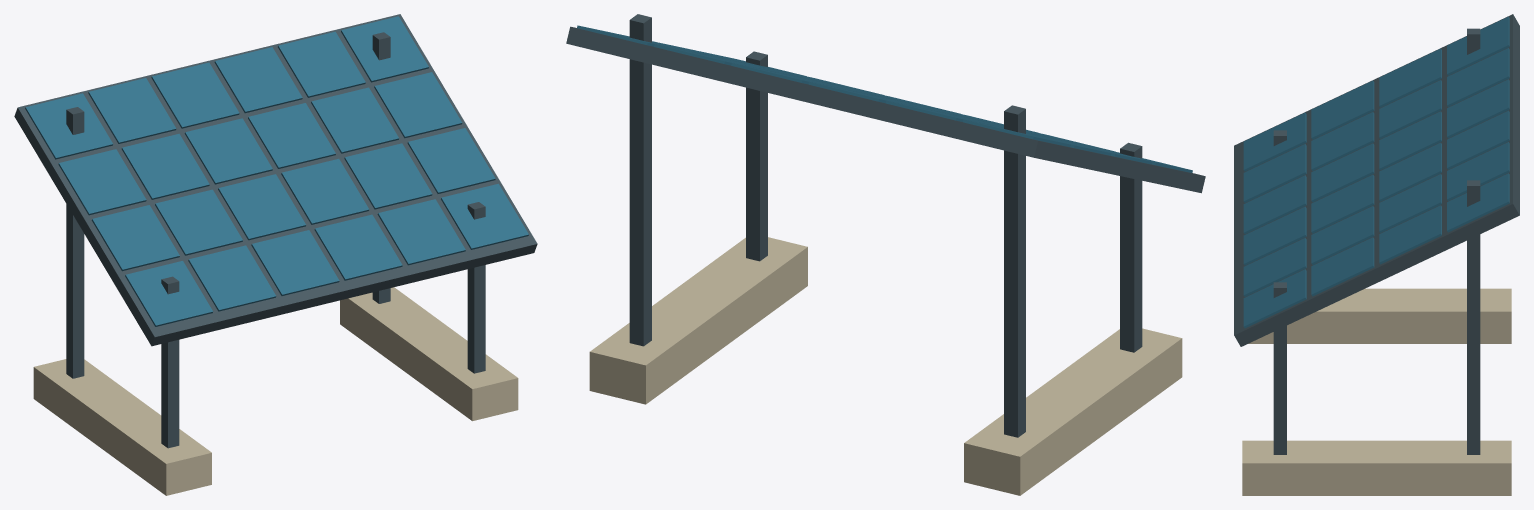
The model's file is solar_array.glb.
3 views of the same model, side by side, from view 1: azimuth 30°, elevation 25°; view 2: azimuth 150°, elevation 25°; view 3: azimuth 270°, elevation 25° (orthographic). The views are drawn at different scales.
Visible parts, largest first — view 1: solar_array; view 2: solar_array; view 3: solar_array.
Boxes of the visible parts, box(x1,y1,x2,y2) form: solar_array: box(14, 14, 537, 495); solar_array: box(566, 14, 1205, 495); solar_array: box(1234, 14, 1519, 495).
Size of the model in its own units: 2 by 1.48 by 1.27.
